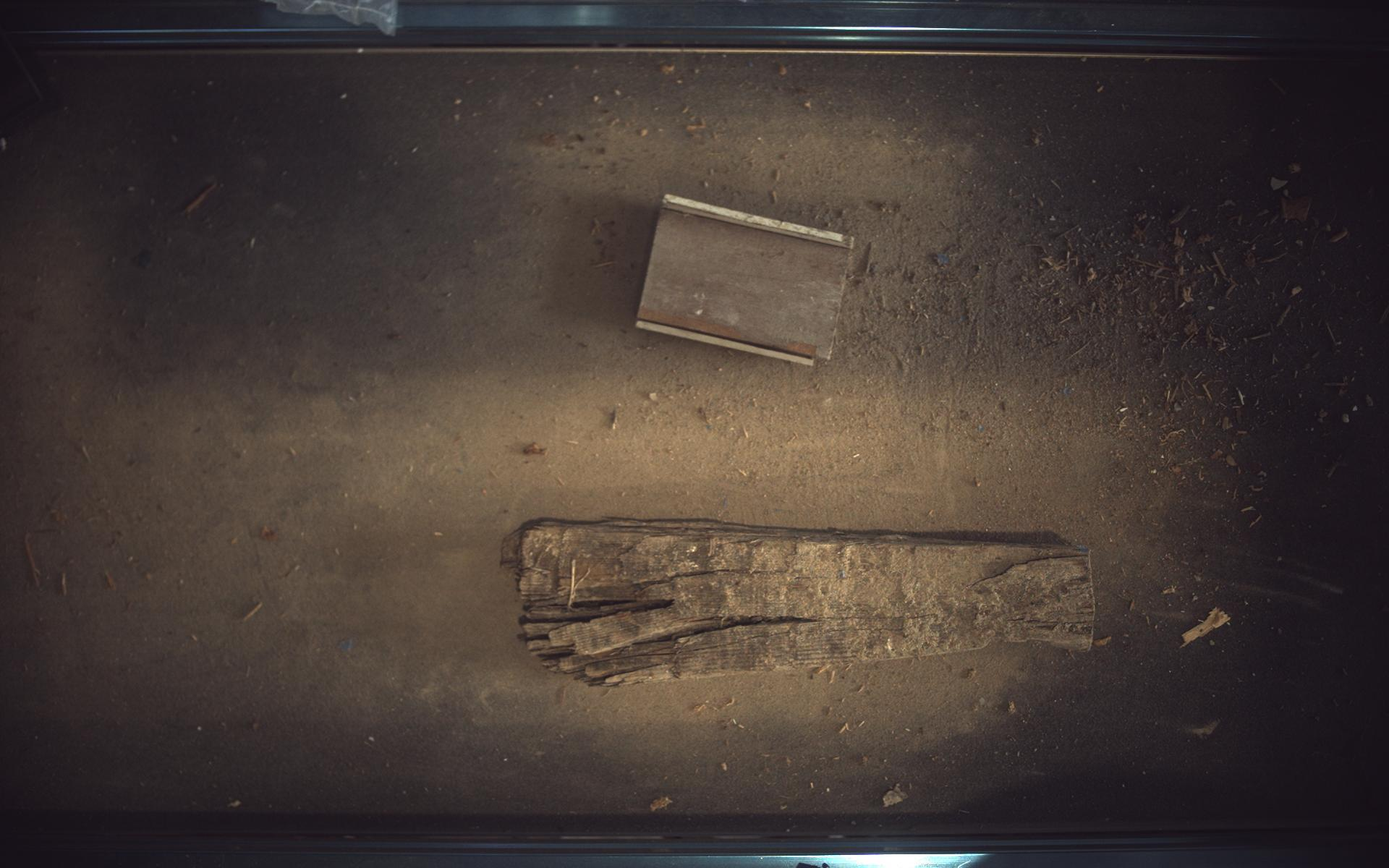wood: (502, 519, 1097, 686), (637, 194, 854, 365)
